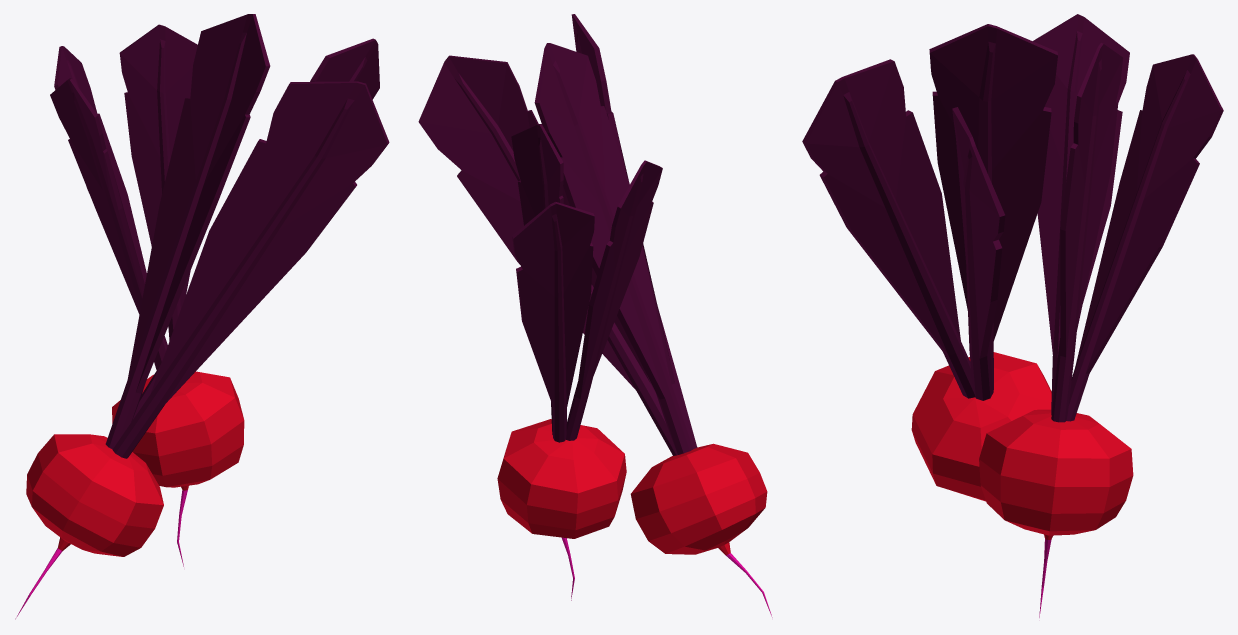
File: Radish_01.fbx
3 views of the same model, side by side, from view 1: azimuth 30°, elevation 25°; view 2: azimuth 150°, elevation 25°; view 3: azimuth 270°, elevation 25° (orthographic). The views are drawn at different scales.
Visible parts, largest first — view 1: Radish_01; view 2: Radish_01; view 3: Radish_01.
Boxes of the visible parts, bbox=[...] form: Radish_01: bbox=[15, 14, 389, 619]; Radish_01: bbox=[418, 14, 772, 617]; Radish_01: bbox=[802, 14, 1223, 617].
Size of the model in its own units: 3.71 by 5.4 by 3.32.
